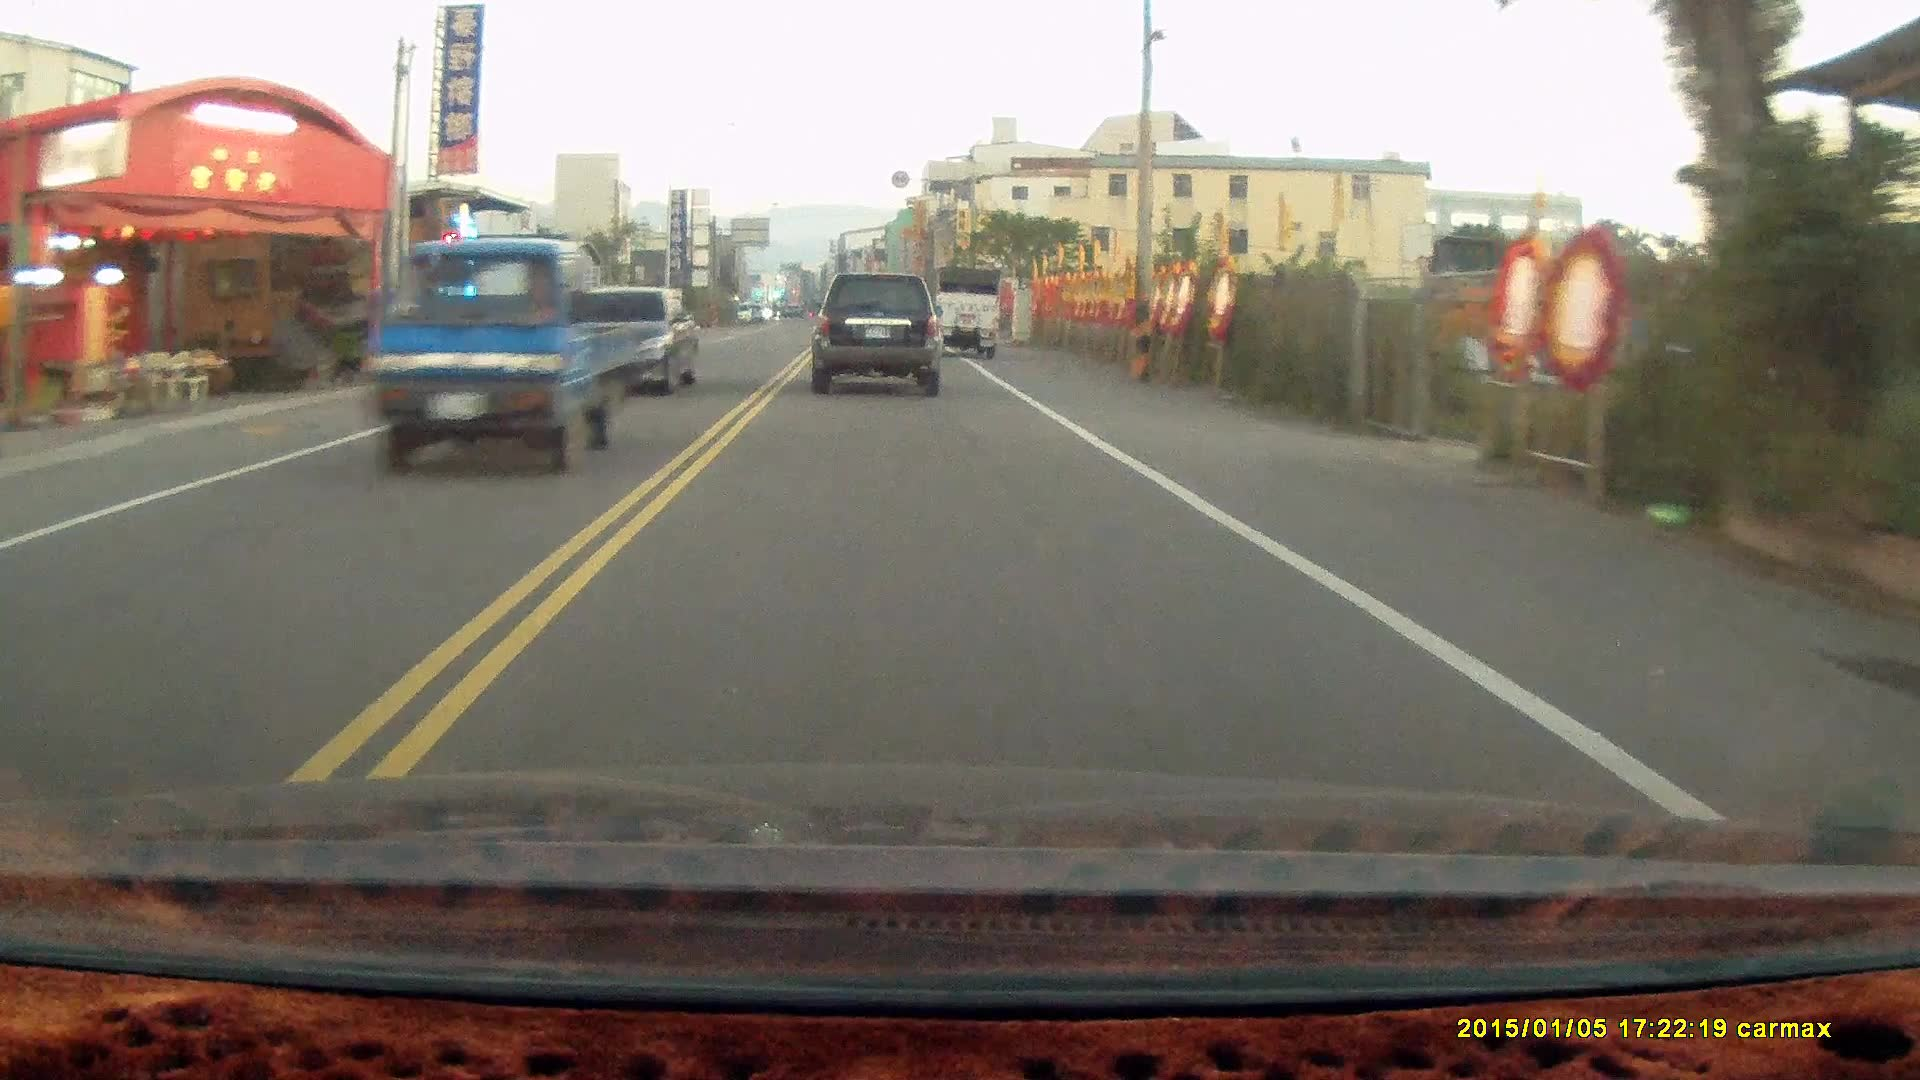vehicle: (367, 237, 640, 464), (810, 266, 945, 396), (558, 284, 700, 398), (934, 262, 1004, 359)
